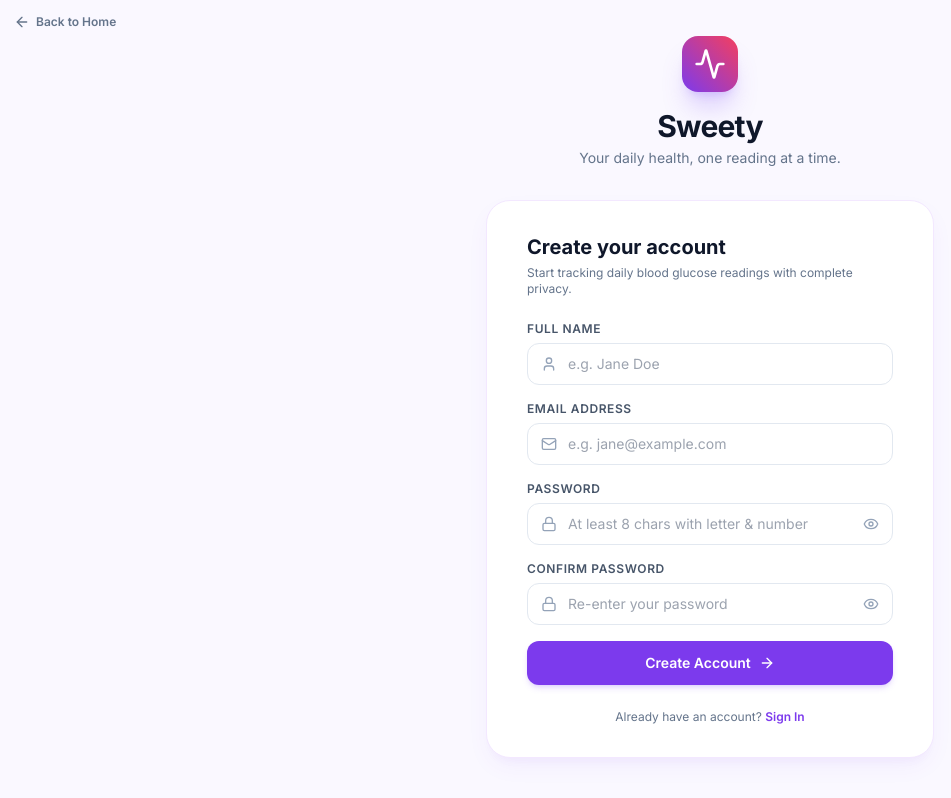
Scenario: Authentication Pages Validation & Accessibility Tests › validates weak password without numbers on RegisterPage
Type "Jane Doe" into the field with placeholder "e.g. Jane Doe" at [710, 364], box top-left (527, 343), bottom-right (893, 385)
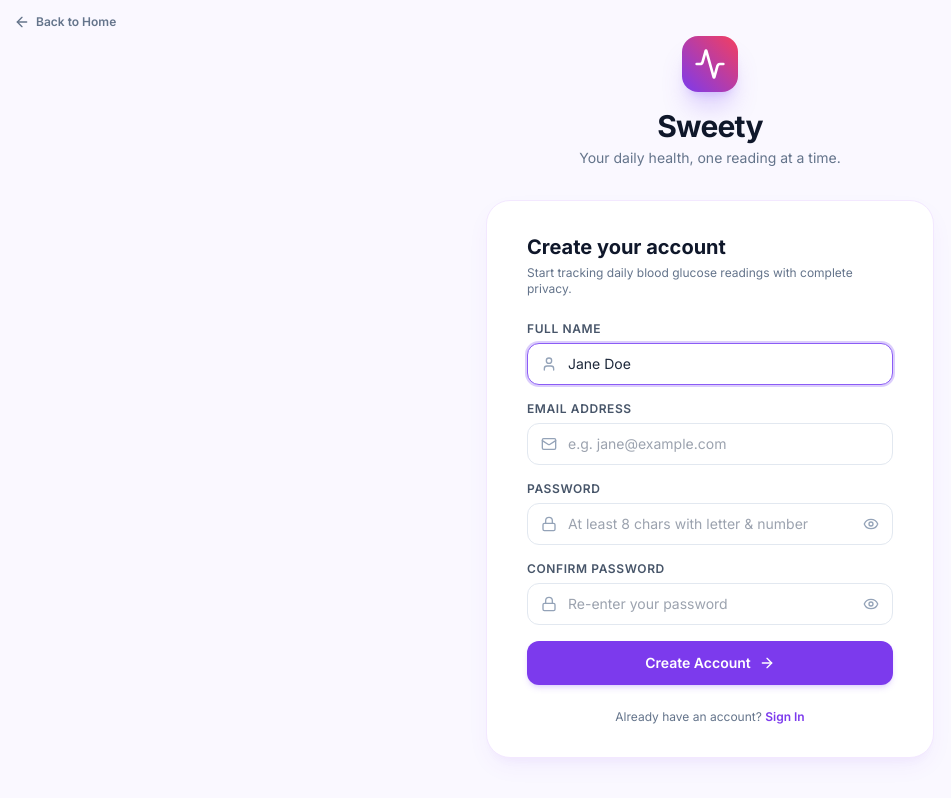
Type "jane@example.com" into the field with placeholder "e.g. jane@example.com" at [710, 444], box top-left (527, 423), bottom-right (893, 465)
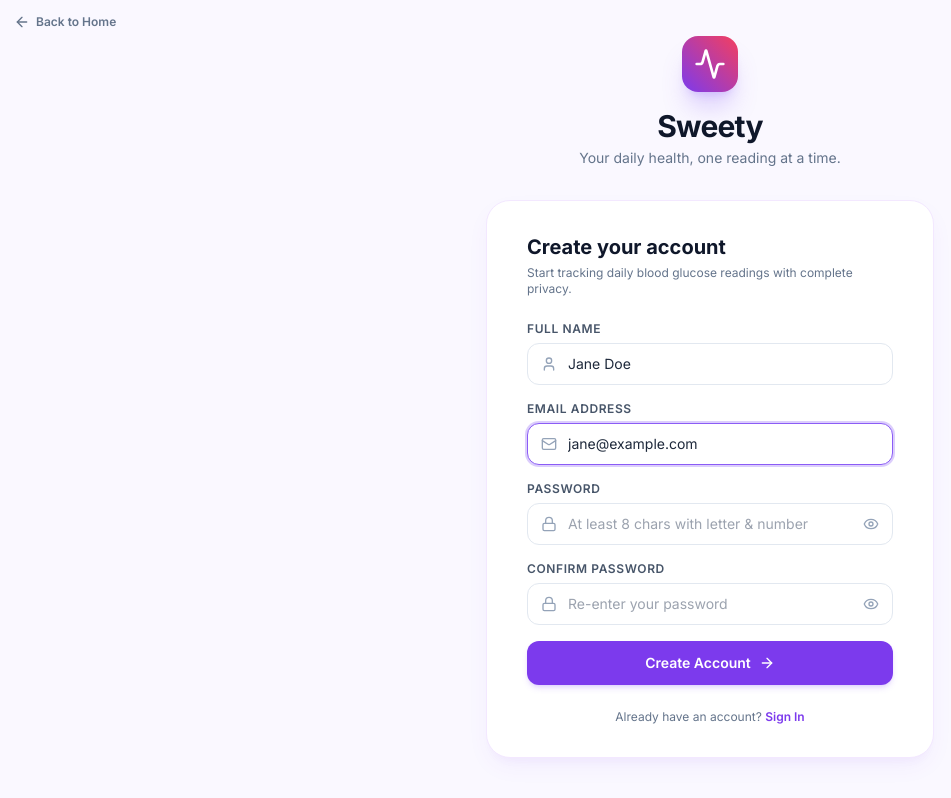
Type "letters-only" into the password field with placeholder "At least 8 chars with letter & number" at [710, 524], box top-left (527, 503), bottom-right (893, 545)
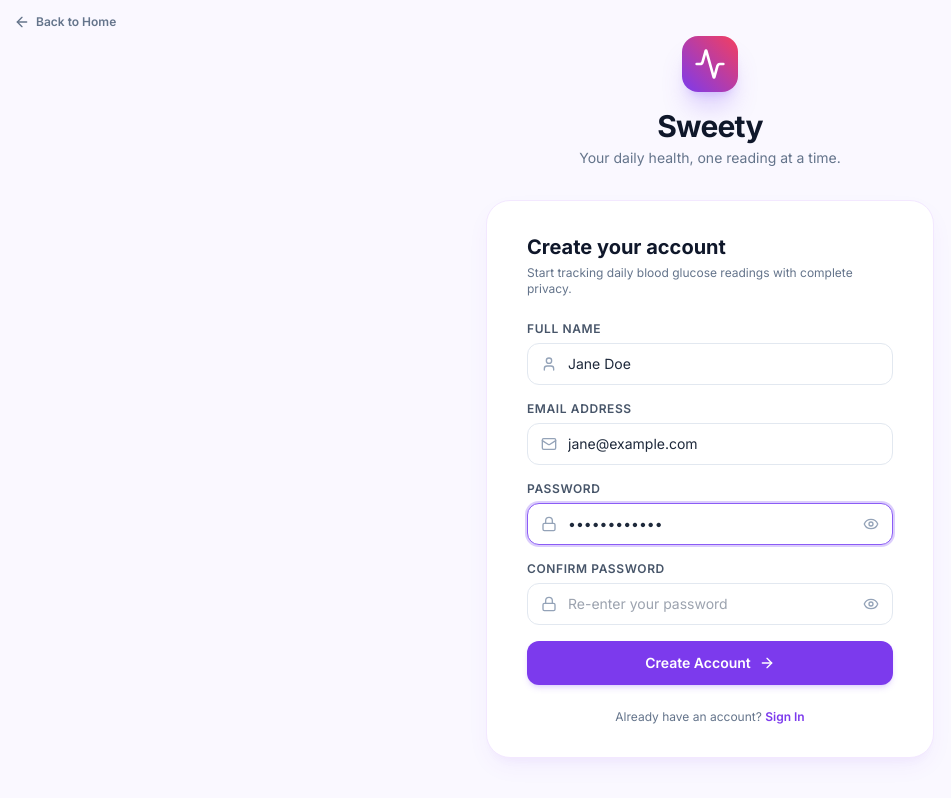
Type "letters-only" into the password field with placeholder "Re-enter your password" at [710, 604], box top-left (527, 583), bottom-right (893, 625)
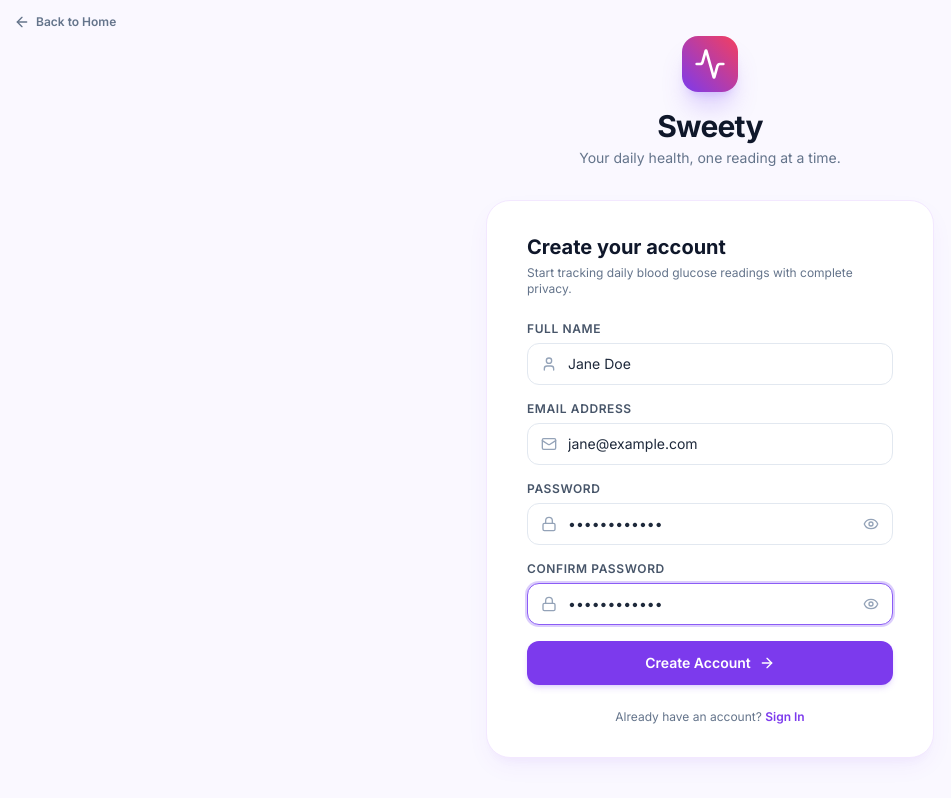
Click the button "Create Account" at [710, 663], box top-left (527, 641), bottom-right (893, 685)
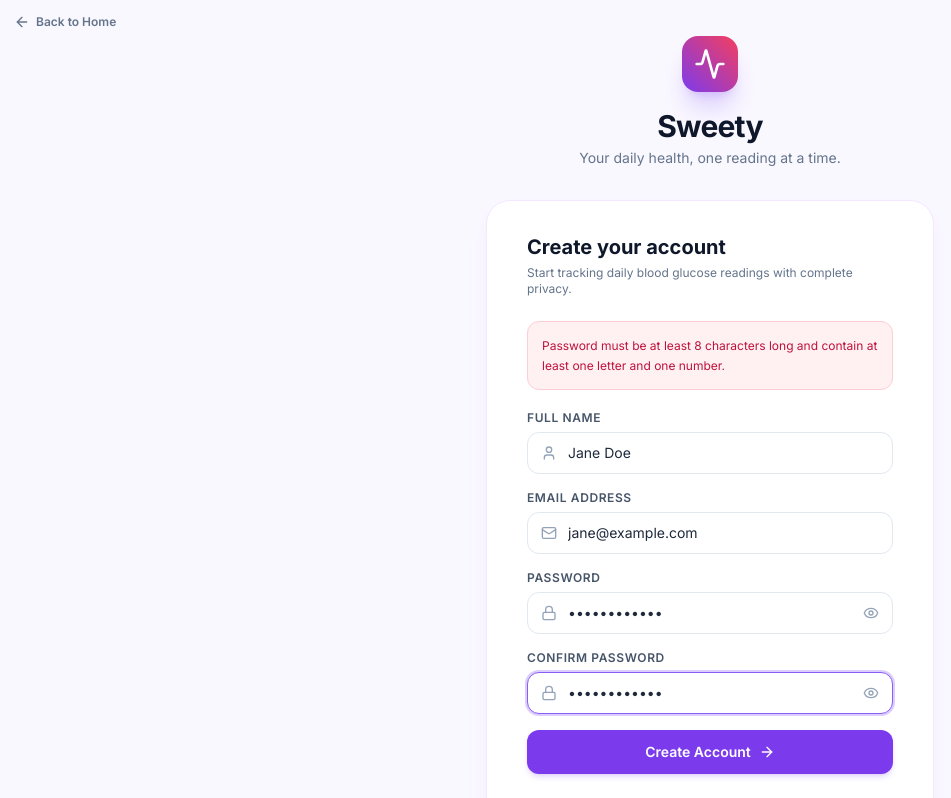
Check: the text "Password must be at least 8 characters long and contain at least one letter and one number." is shown, box top-left (542, 338), bottom-right (877, 372)
